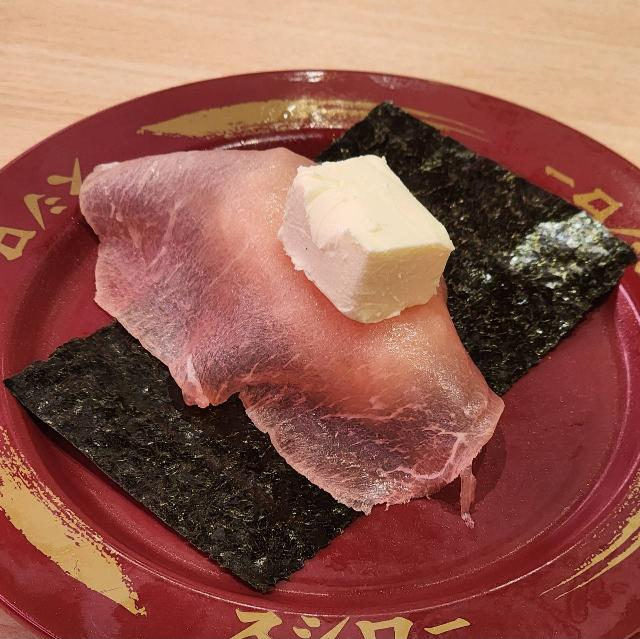janred: (0, 88, 640, 631)
